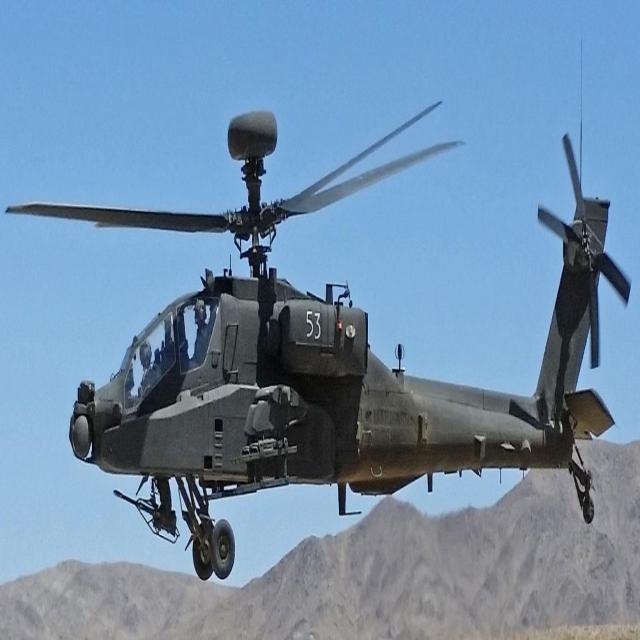MIL_HELO: (18, 78, 626, 587)
